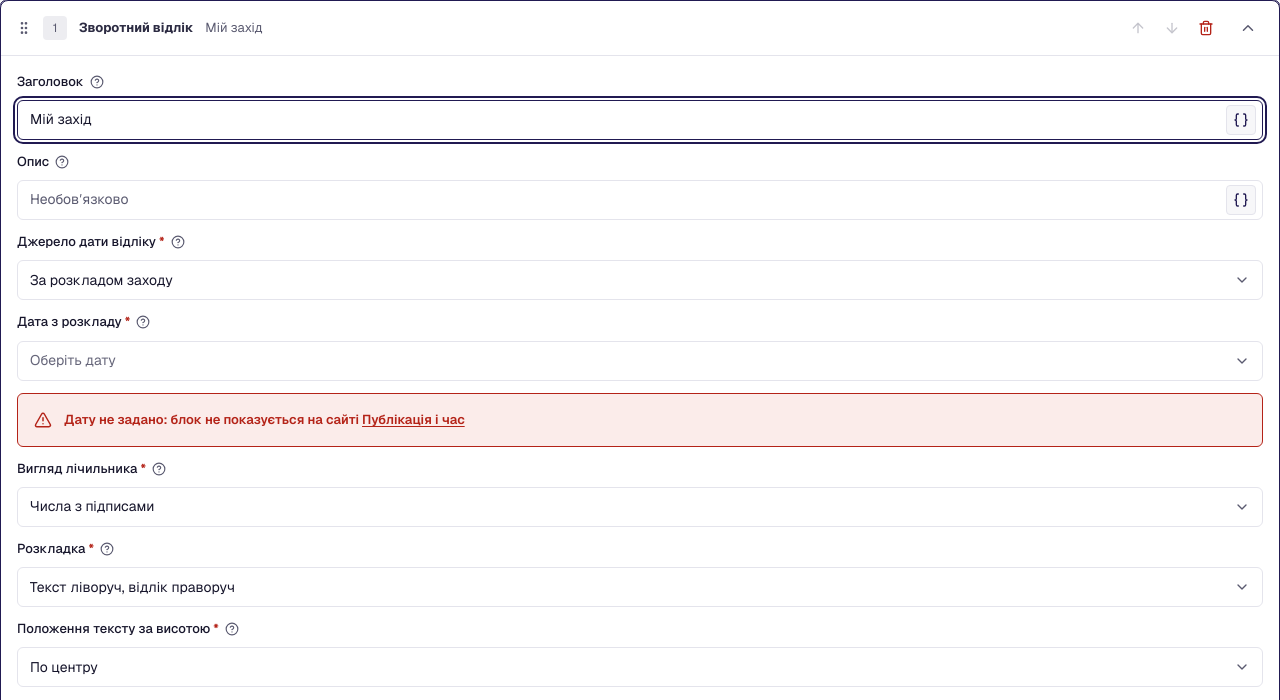
page block variable picker › opens from the real button and inserts at the remembered caret
This screenshot has width=1280, height=700.
Click the button named "Вставити змінну в поле «Заголовок»": [1241, 120] box [1226, 105, 1256, 135]
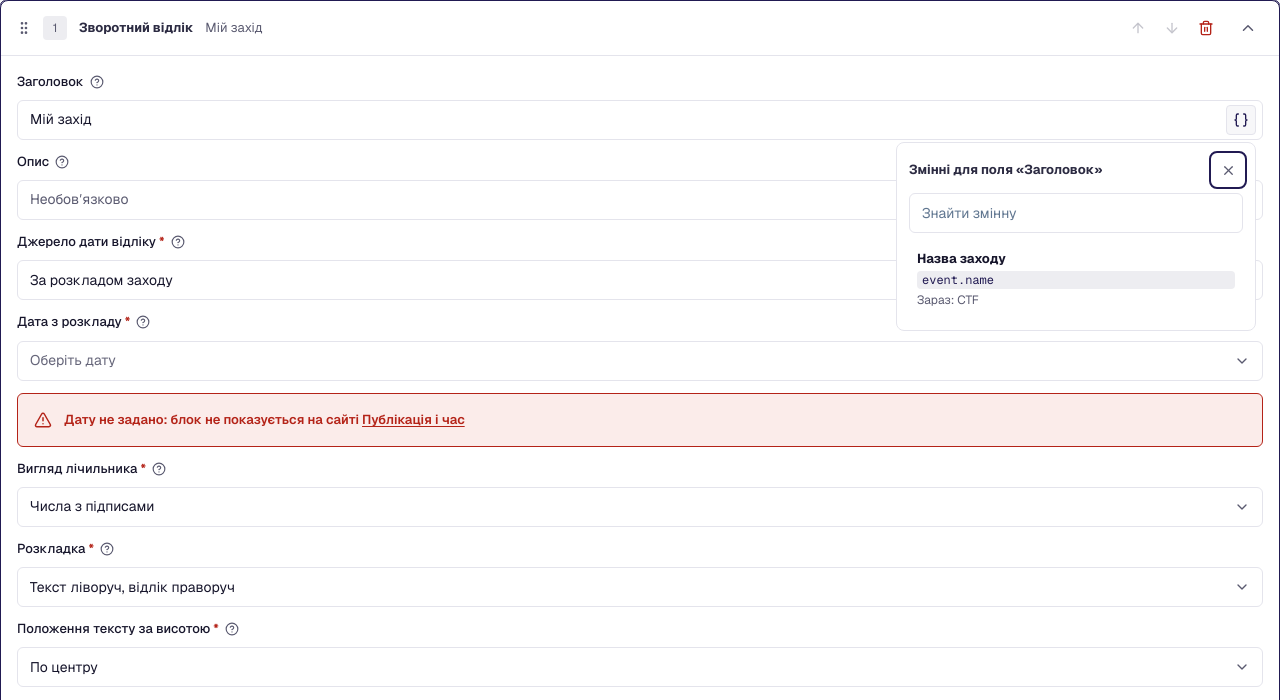
Click the button "Назва заходу event.name Зараз: CTF": [1076, 279] box [909, 241, 1243, 318]
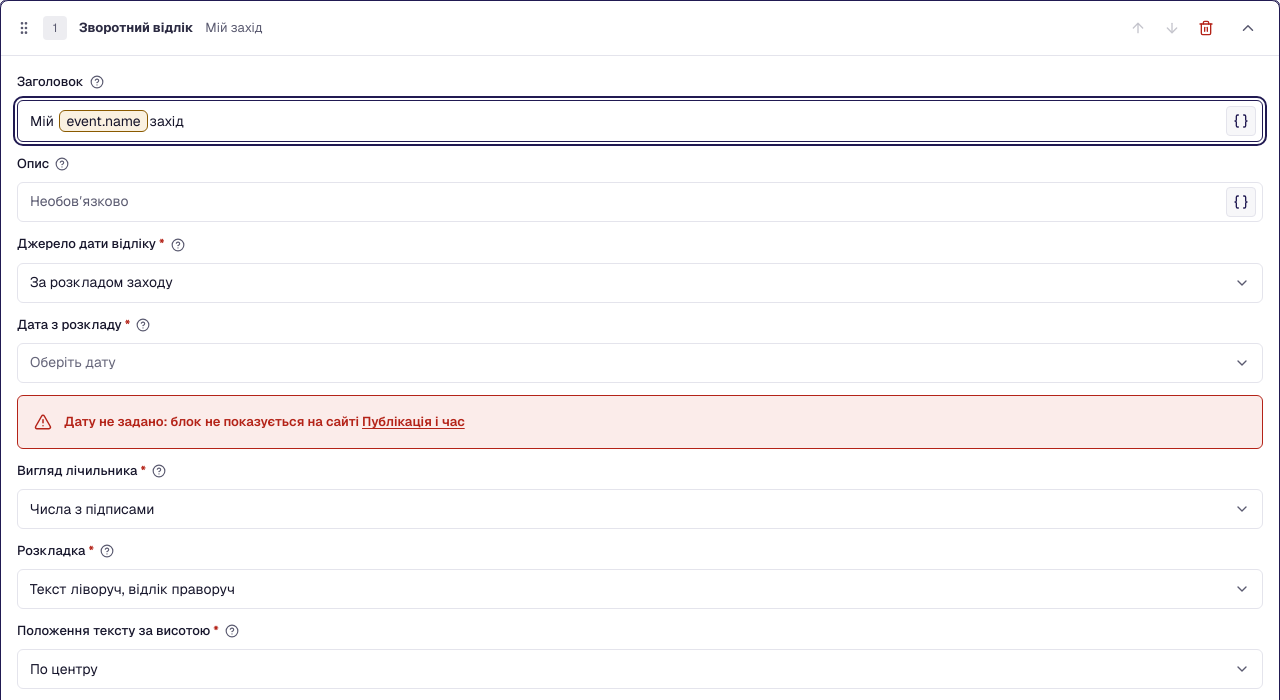
Expected: the dialog is gone
